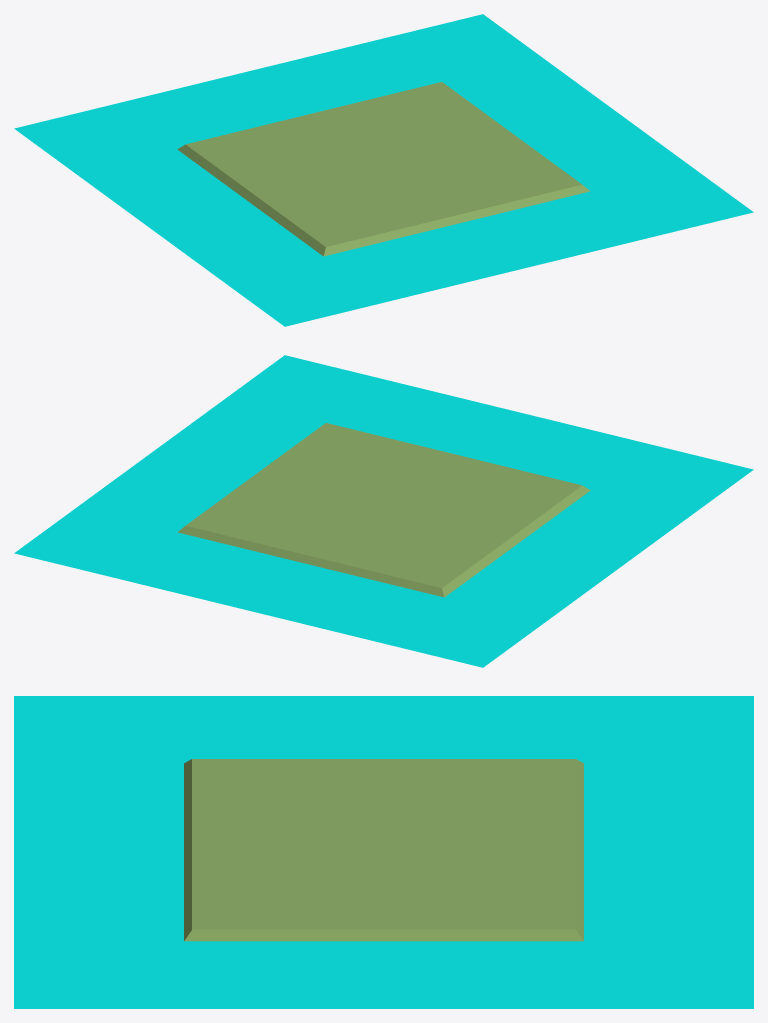
File: Water_Ground_Planes_Scale Setup.fbx
3 views of the same model, one above another, from view 1: azimuth 30°, elevation 25°; view 2: azimuth 150°, elevation 25°; view 3: azimuth 270°, elevation 25° (orthographic). The views are drawn at different scales.
Parts seen in each view (by area): view 1: WaterPlane, GroundPlane; view 2: WaterPlane, GroundPlane; view 3: WaterPlane, GroundPlane.
Part boxes in pixels (x1,y1,x2,y2): WaterPlane: (14, 14, 753, 326); GroundPlane: (177, 82, 590, 256); WaterPlane: (14, 355, 753, 667); GroundPlane: (177, 423, 590, 597); WaterPlane: (14, 696, 753, 1008); GroundPlane: (184, 759, 583, 941).
Bounding box in the file's own units: 35.08 × 0.4275 × 35.08.
